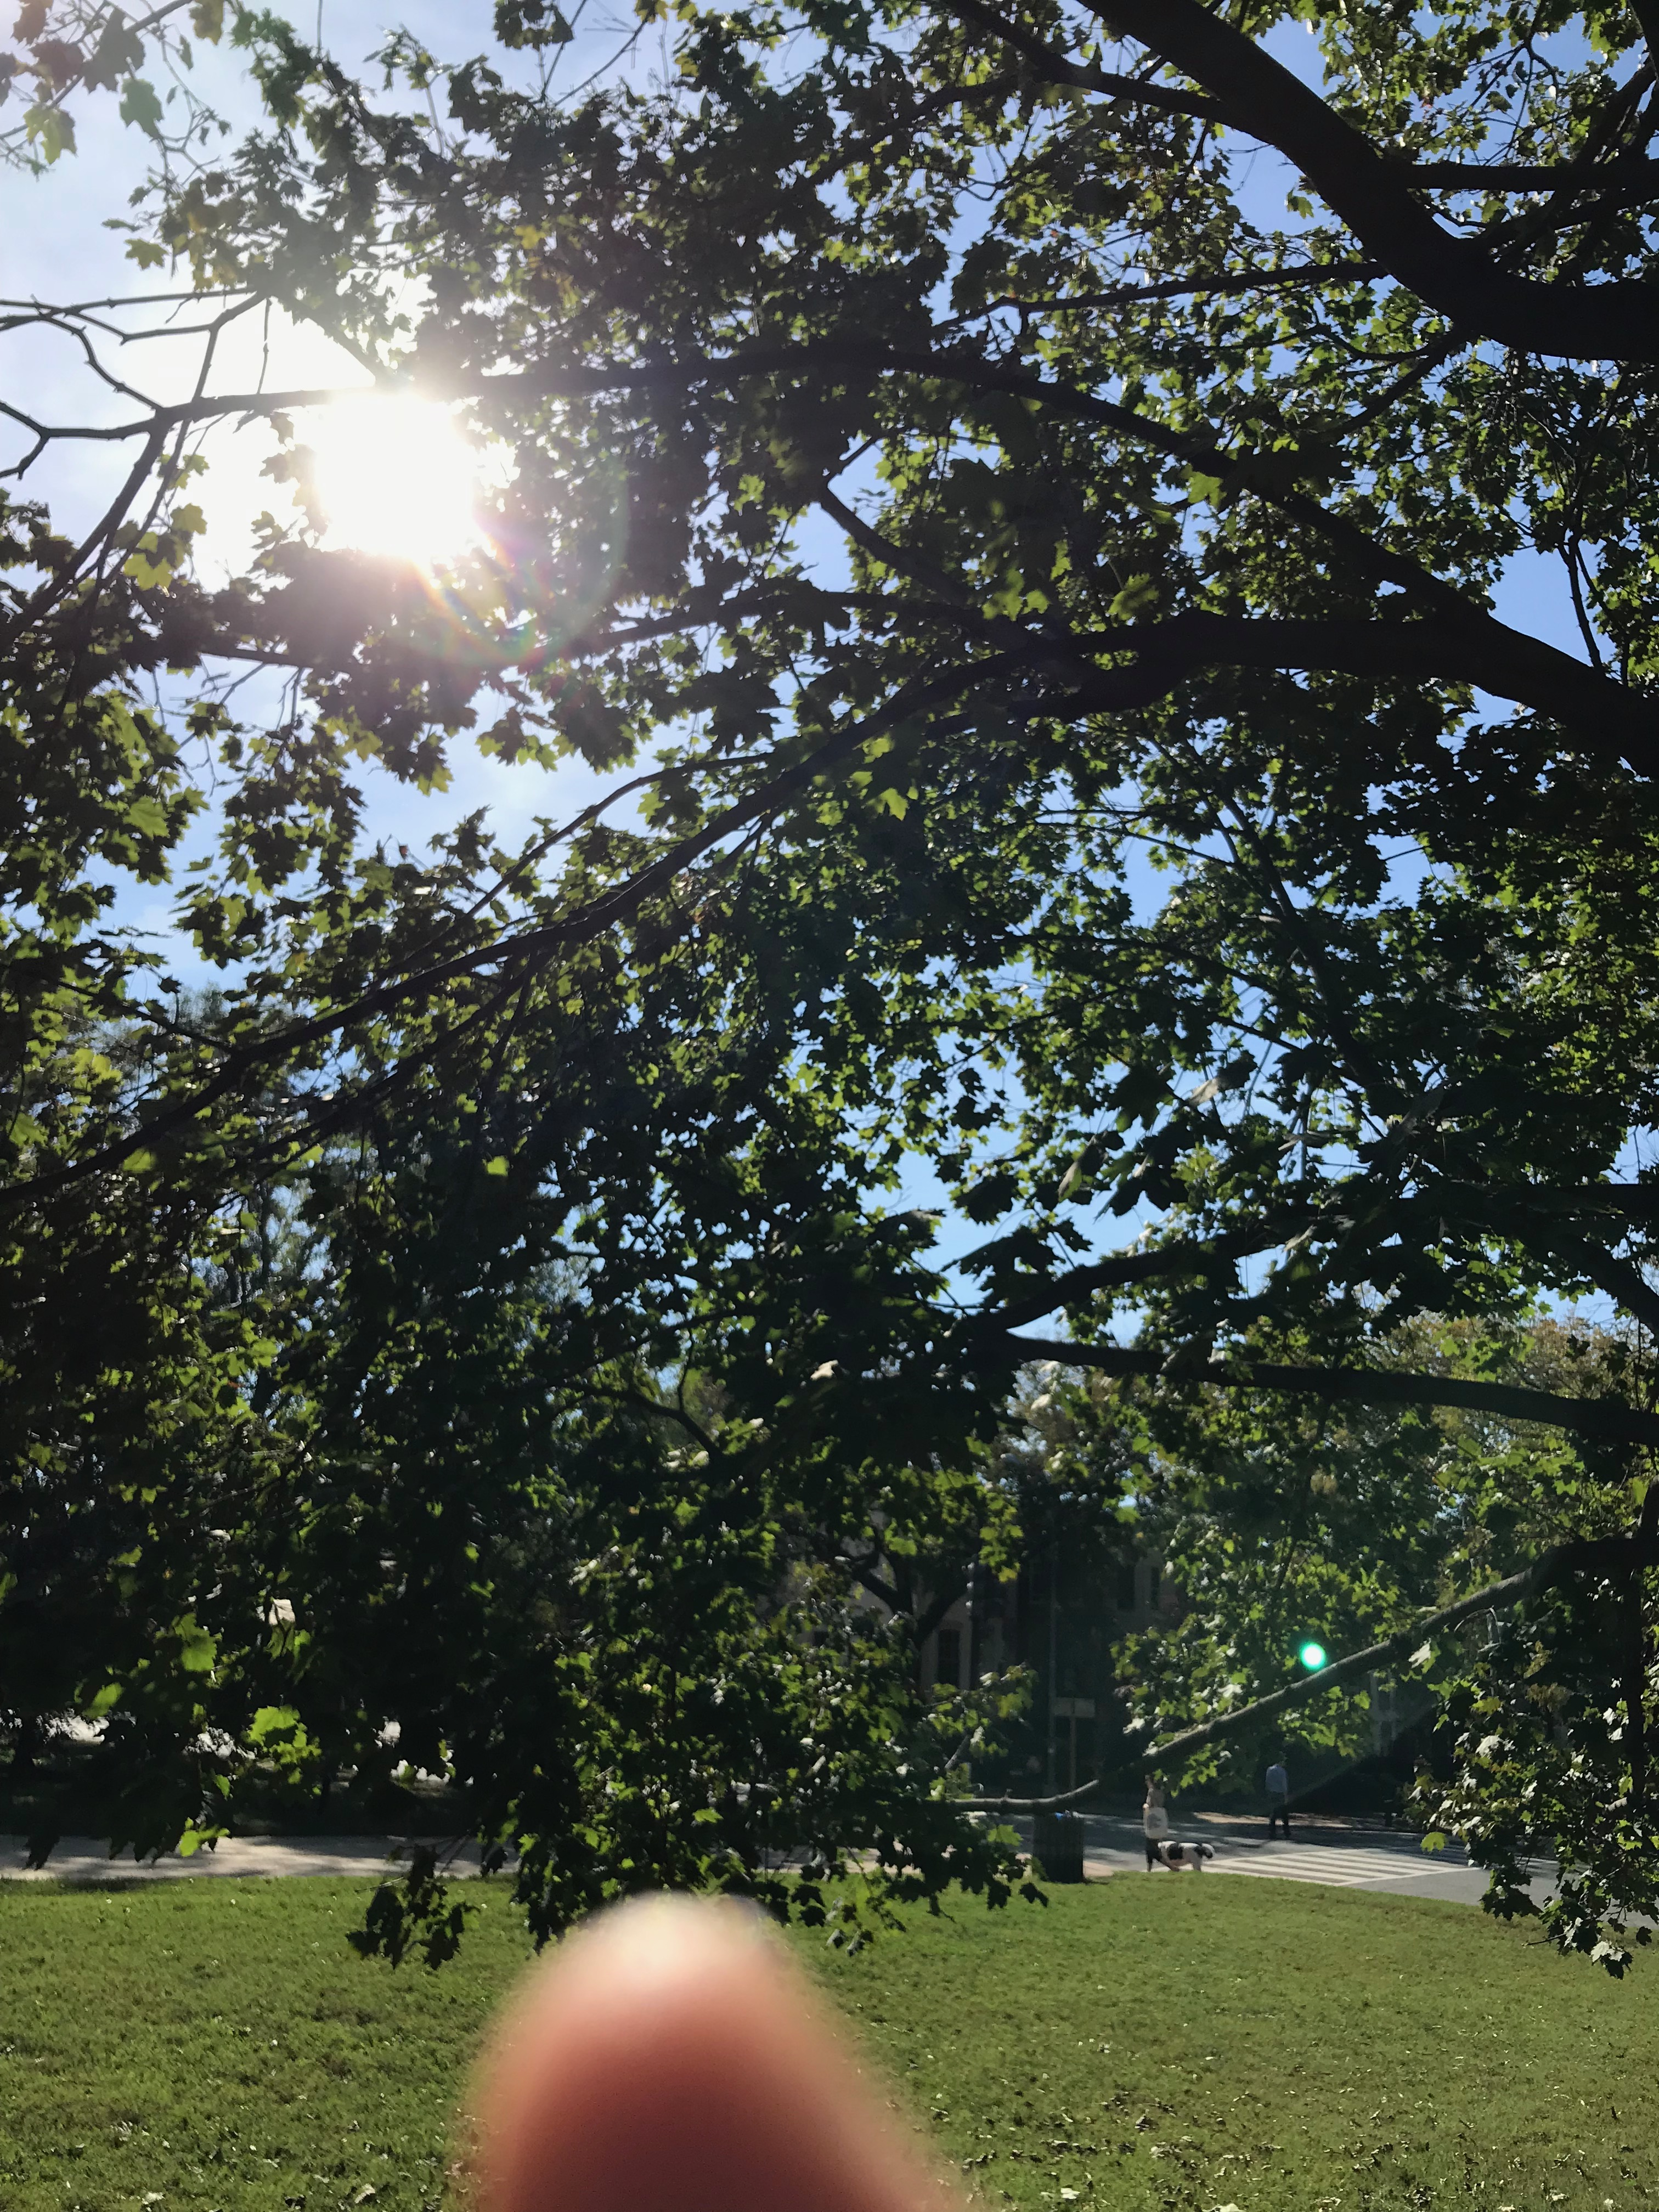flare: (1298, 1639, 1330, 1672)
